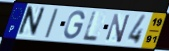4: (125, 14, 148, 47)
G: (63, 10, 86, 41)
I: (43, 8, 60, 39)
L: (81, 11, 99, 43)
N: (15, 5, 47, 38), (104, 12, 132, 44)
